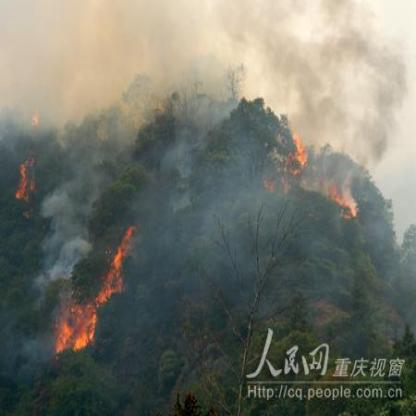fire: (55, 223, 134, 352), (265, 130, 360, 218), (8, 156, 39, 208)
